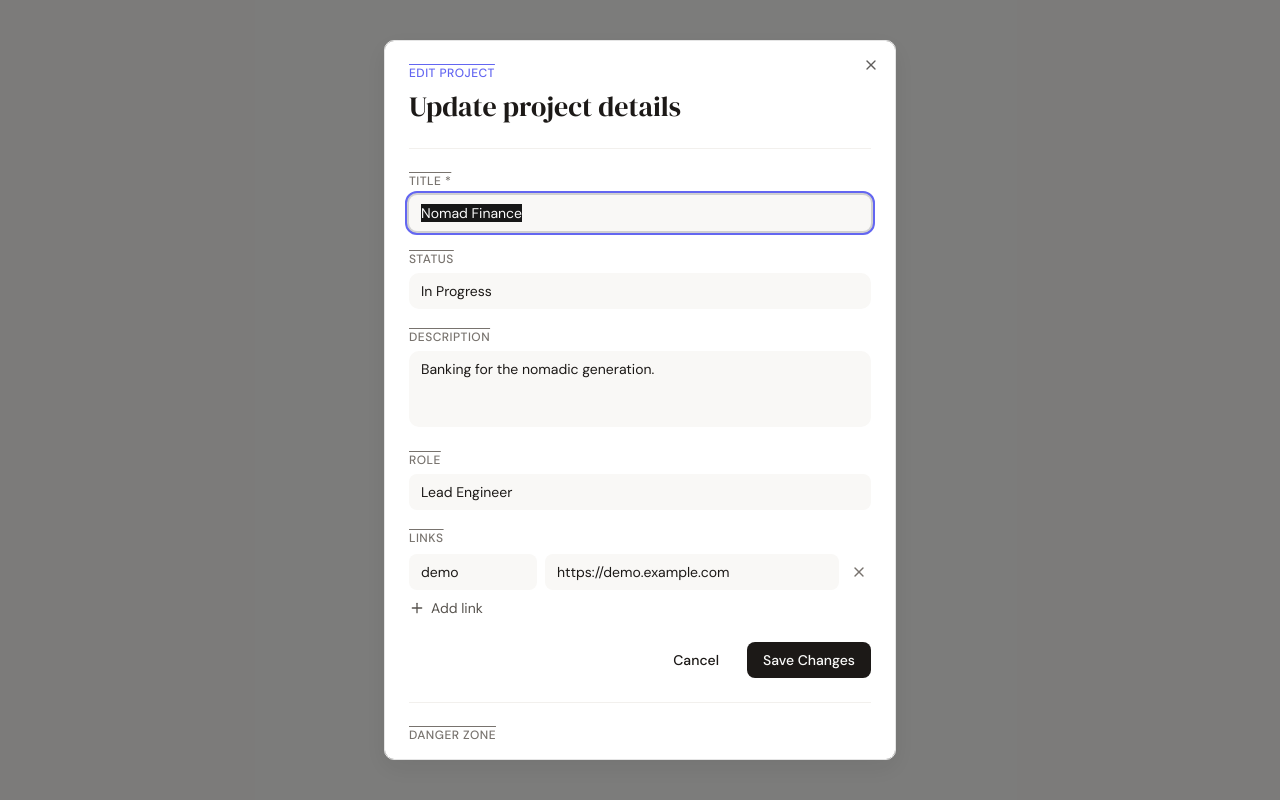
Scenario: EditProjectDialog › shows error message when update mutation fails
Click the button "Save Changes": (809, 660) [747,642,871,678]
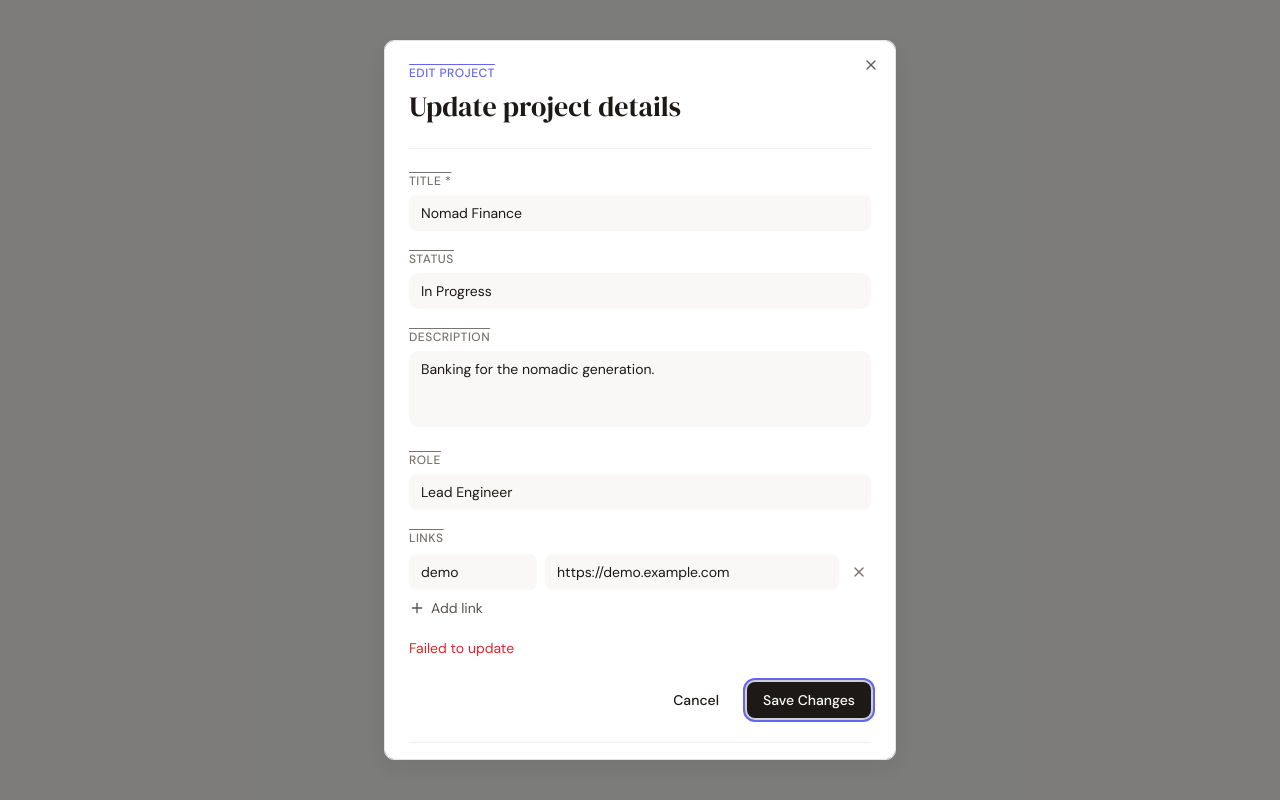
Expected: the text "Failed to update" is shown, [409,639,514,657]
